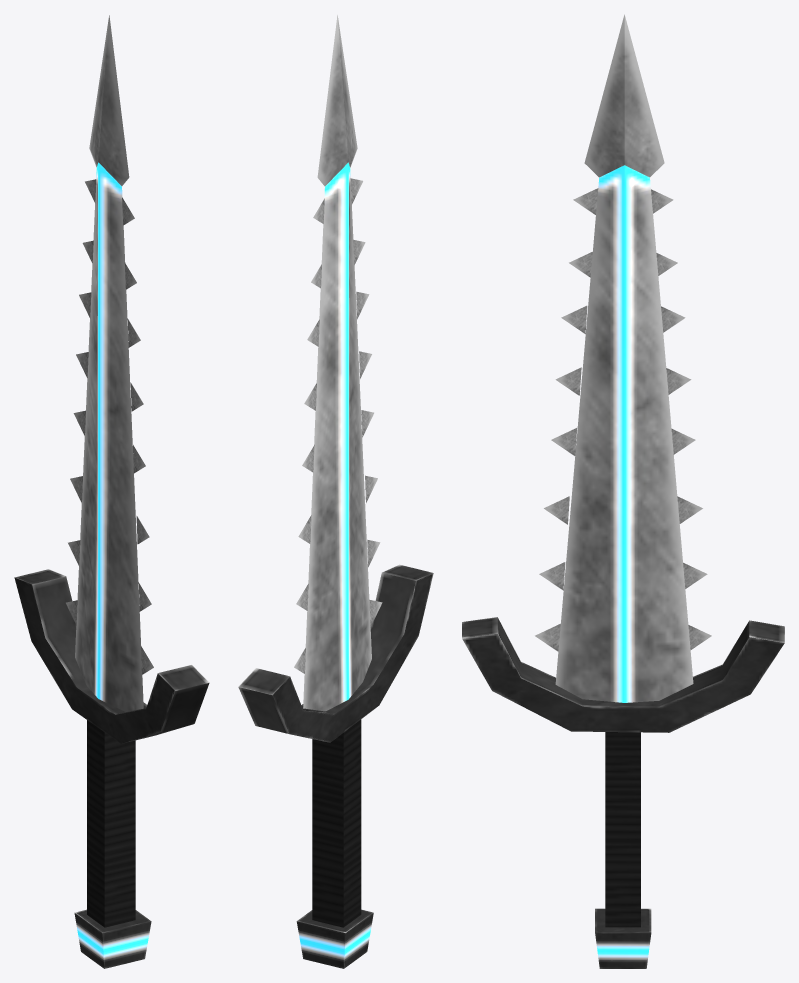
File: Sword.FBX
3 views of the same model, side by side, from view 1: azimuth 30°, elevation 25°; view 2: azimuth 150°, elevation 25°; view 3: azimuth 270°, elevation 25° (orthographic).
Parts seen in each view (by area): view 1: Box070; view 2: Box070; view 3: Box070.
Boxes of the visible parts, bbox=[...] form: Box070: bbox=[14, 15, 209, 968]; Box070: bbox=[238, 15, 433, 968]; Box070: bbox=[462, 14, 784, 968].
Bounding box in the file's own units: 10.31 × 190 × 58.82.
Materials: 1 (1 with a texture image).
